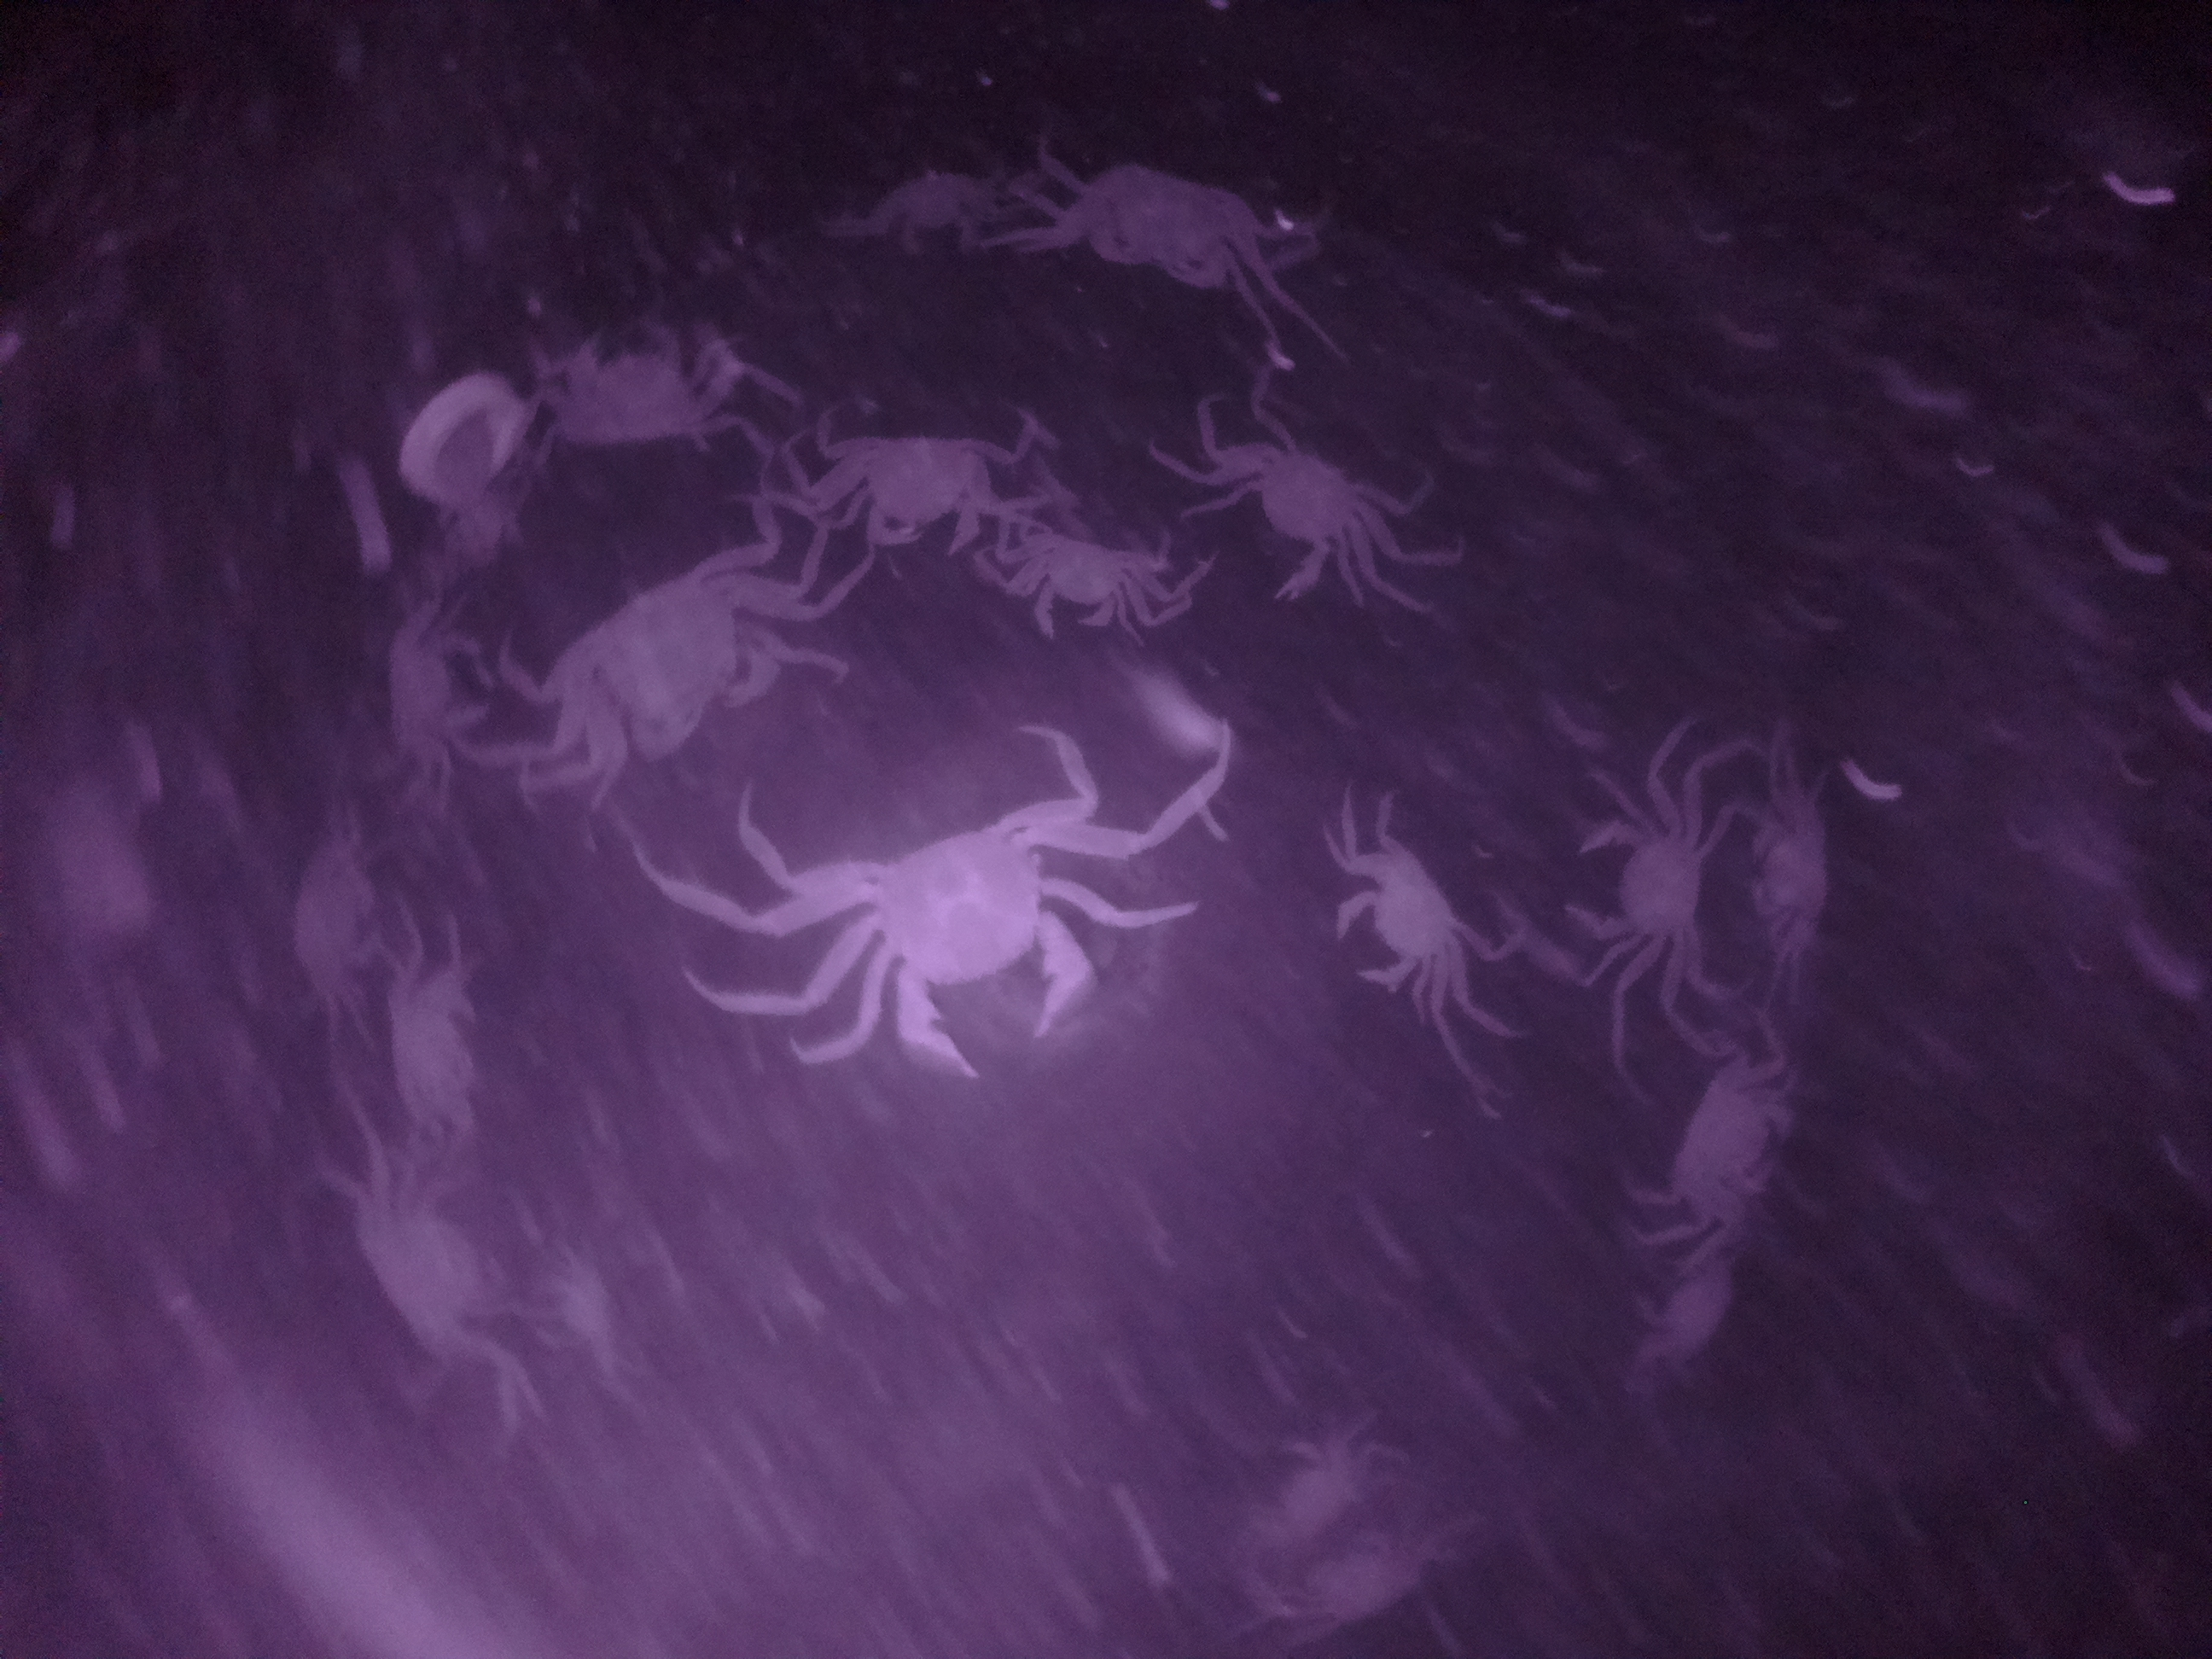Crab: (850, 788, 1106, 1096), (549, 549, 794, 788), (1064, 152, 1284, 312), (1550, 791, 1717, 974), (1226, 416, 1385, 605), (1322, 831, 1468, 1014), (1658, 1068, 1810, 1223), (841, 416, 1007, 554), (996, 530, 1153, 636)
